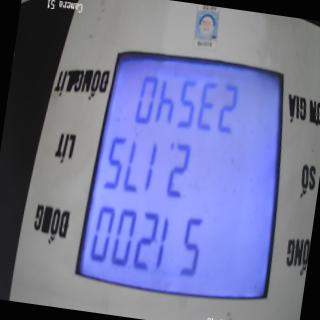screen: (66, 36, 302, 320)
